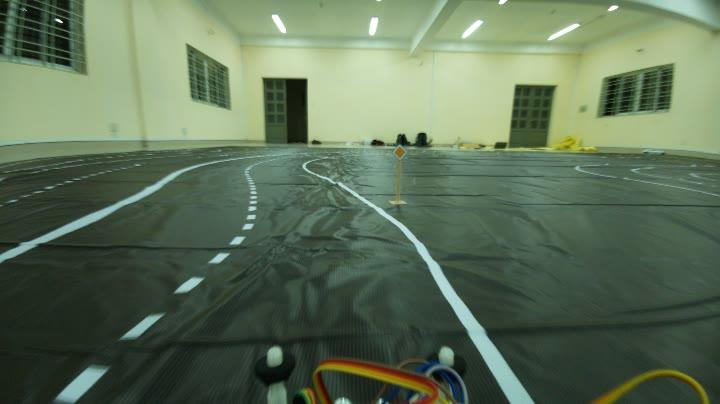priority: (388, 142, 411, 162)
